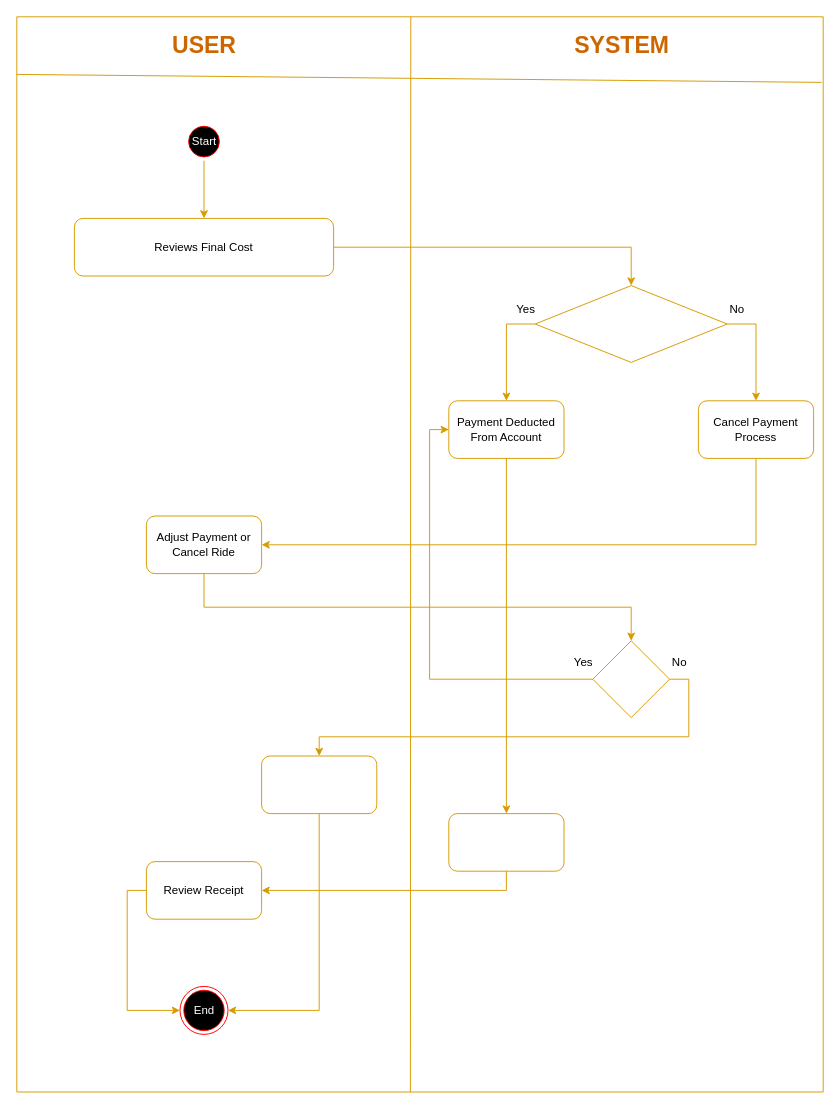
Some shapes in this 840 by 1110 pixel diagram are drawn without their labels. Here are the shapes that lost their labels. From the top down, the centre of each, then its label:
(x=630, y=323): Account Balance > Payment Cost
(x=631, y=679): Payment Adjusted?
(x=319, y=784): Cancel Ride
(x=506, y=842): Generate Digital Receipt
